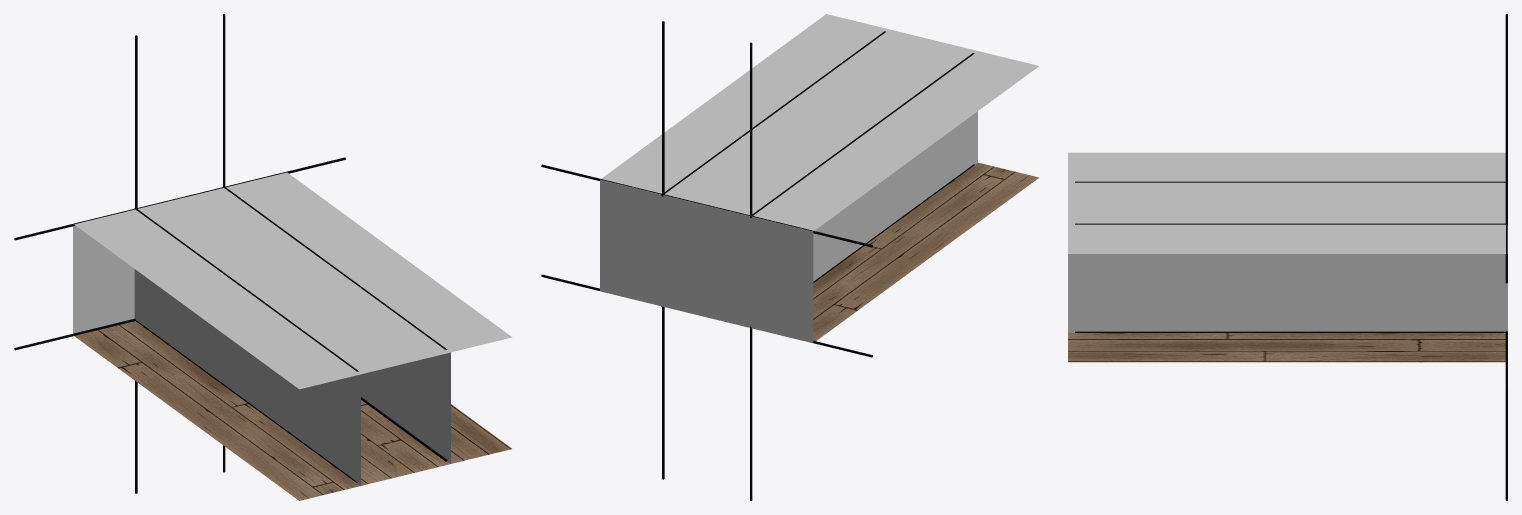
Rendered from Corredor1.fbx.
3 renders of one model, left to right at view 1: azimuth 30°, elevation 25°; view 2: azimuth 150°, elevation 25°; view 3: azimuth 270°, elevation 25°, orthographic. The views are drawn at different scales.
Visible parts, largest first — view 1: Plane.018, Plane.016, Plane.019, Plane.017, Cylinder.014, Cylinder.013, Cylinder.012; view 2: Plane.018, Plane.017, Plane.016, Plane.019, Cylinder.013, Cylinder.014, Cylinder.012; view 3: Plane.018, Plane.019, Plane.016, Cylinder.014, Cylinder.013.
Part boxes in pixels (x1,y1,x2,y2): Plane.018: [74, 171, 512, 389]; Plane.016: [74, 321, 511, 500]; Plane.019: [134, 269, 450, 485]; Plane.017: [73, 225, 134, 333]; Cylinder.014: [134, 187, 447, 482]; Cylinder.013: [135, 14, 225, 493]; Cylinder.012: [14, 157, 345, 350]; Plane.018: [600, 14, 1038, 231]; Plane.017: [600, 180, 813, 343]; Plane.016: [813, 162, 1039, 341]; Plane.019: [813, 111, 977, 281]; Cylinder.013: [662, 21, 752, 500]; Cylinder.014: [661, 31, 974, 328]; Cylinder.012: [541, 164, 872, 357]; Plane.018: [1068, 152, 1507, 253]; Plane.019: [1068, 254, 1507, 332]; Plane.016: [1068, 333, 1505, 362]; Cylinder.014: [1075, 181, 1507, 332]; Cylinder.013: [1505, 14, 1507, 500].
Bounding box in the file's own units: 620 × 820 × 736.
